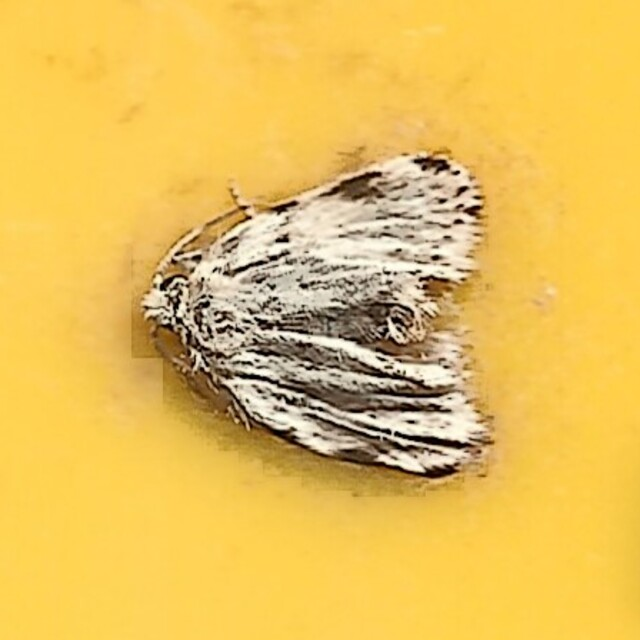Lepidoptera: (143, 152, 497, 488)
